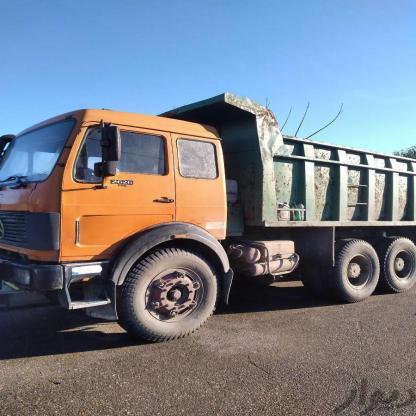Truck: (0, 115, 416, 322)
